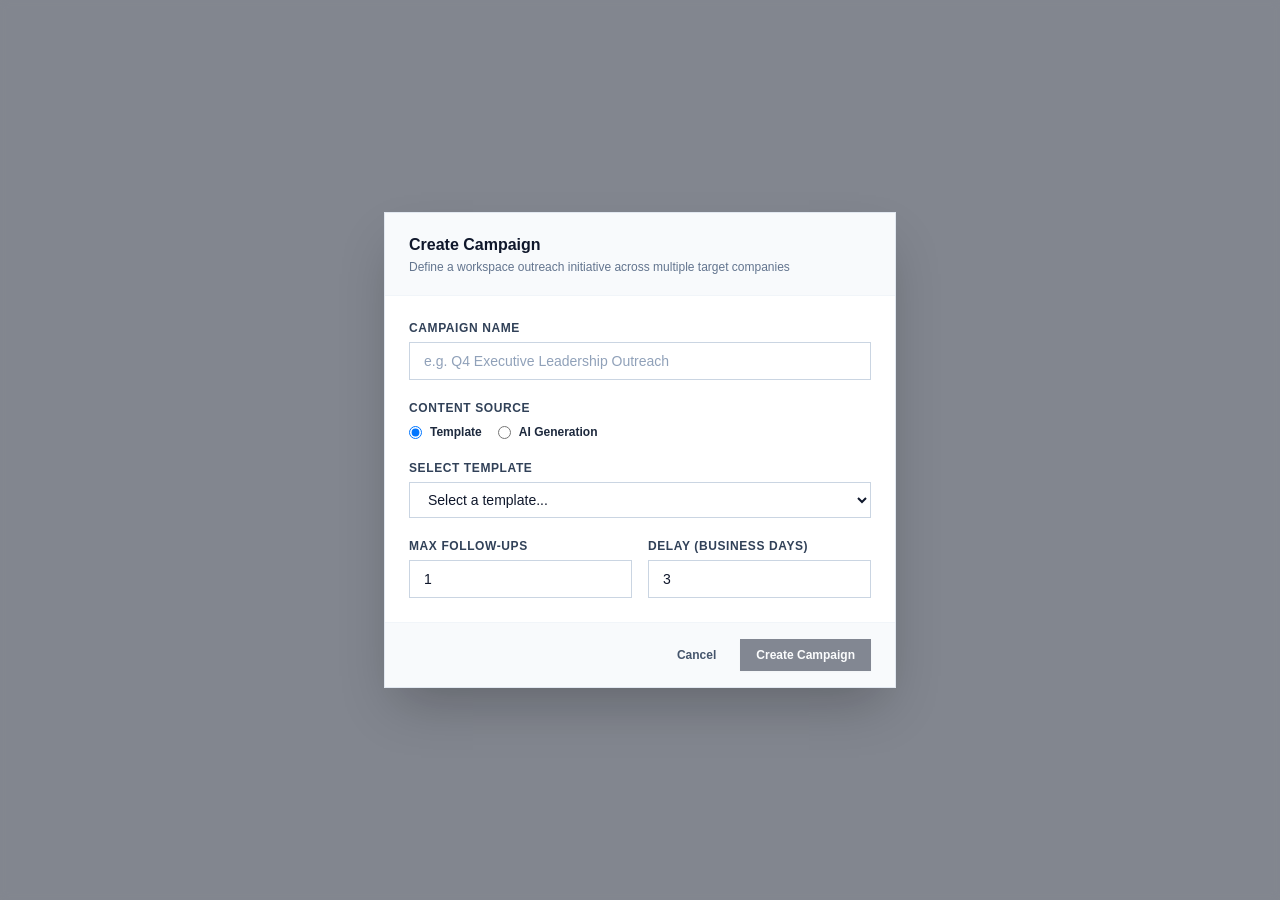
it: CreateCampaignModal - Multi-Company & Content Source Redesign › allows toggling between TEMPLATE and AI content sources
The width and height of the screenshot is (1280, 900).
Expected: the radio button labelled "Template" is checked, x1=409 y1=426 x2=422 y2=438
Expected: the dropdown labelled "Select Template" is shown, x1=409 y1=482 x2=871 y2=518
# Toggle to AI
Click the radio button labelled "AI Generation": (504, 432) x1=498 y1=426 x2=511 y2=438
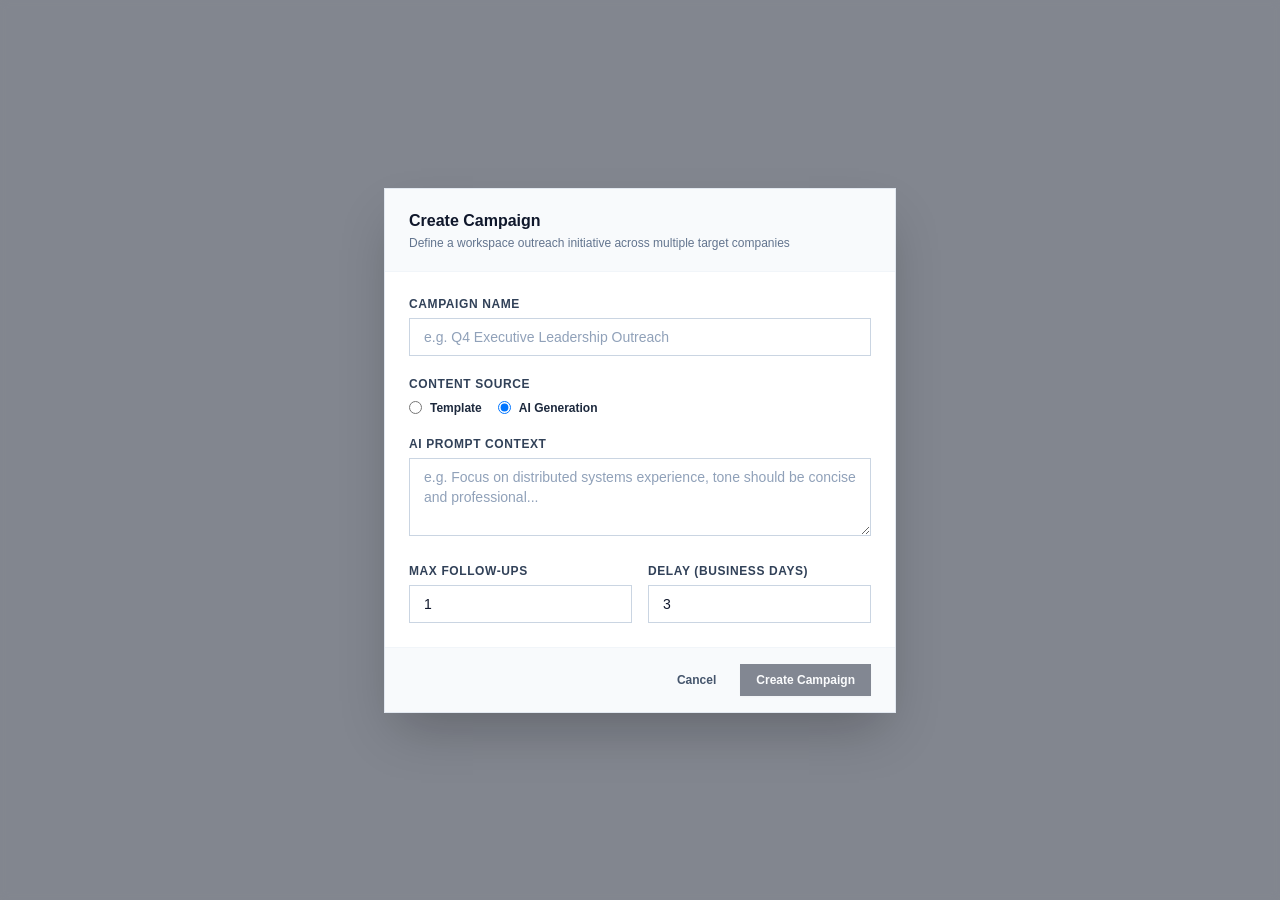
Result: the radio button labelled "AI Generation" is checked at x1=498 y1=401 x2=511 y2=414
Result: the text box labelled "AI Prompt Context" is shown at x1=409 y1=458 x2=871 y2=536
Result: the label labelled "Select Template" is gone
